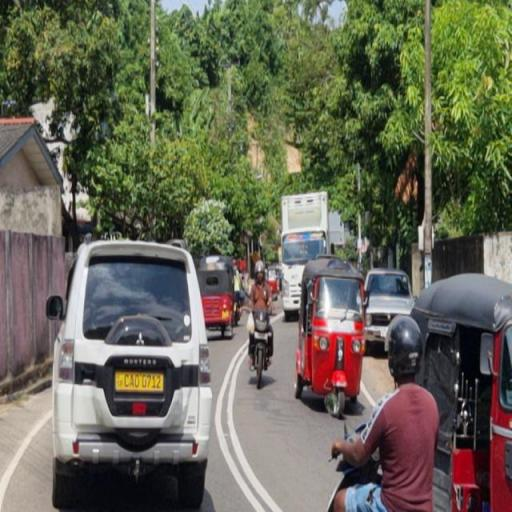double_white_line: (213, 342, 285, 511)
